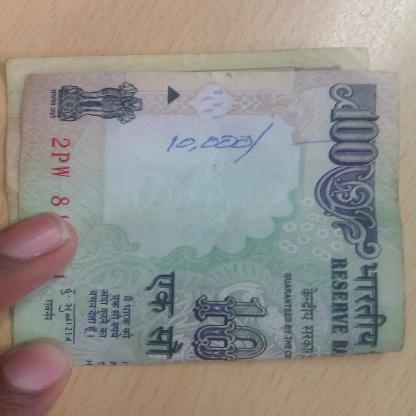Old100Front: (3, 48, 409, 367)
